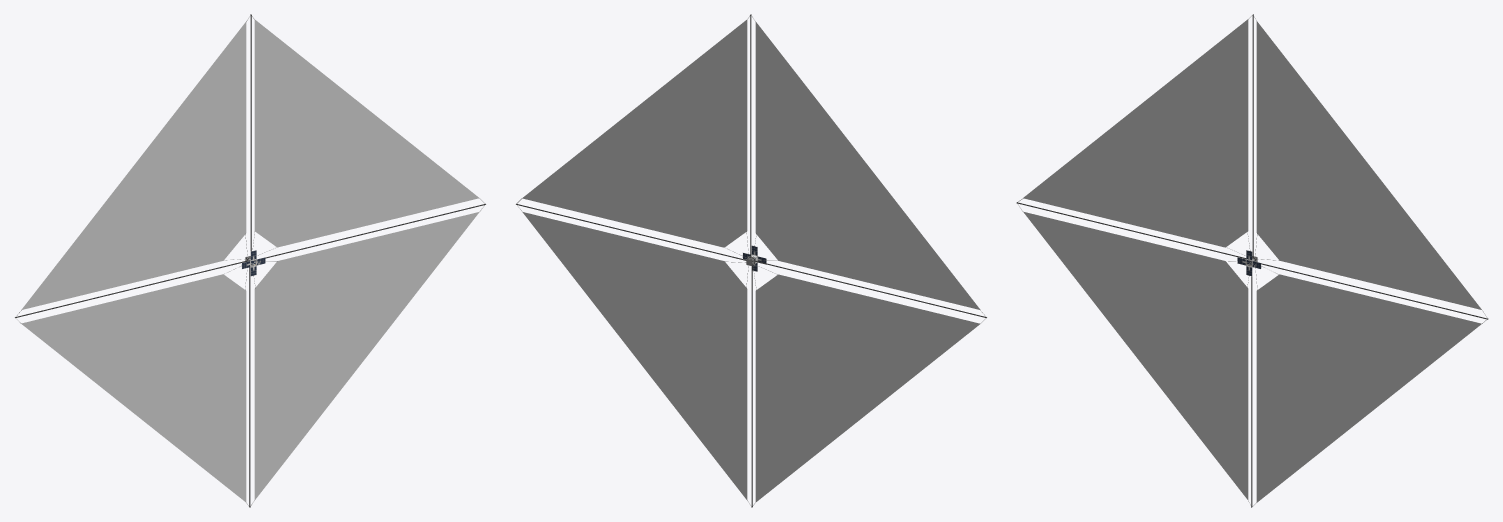
Rendered from acs3.glb.
3 renders of one model, left to right at view 1: azimuth 30°, elevation 25°; view 2: azimuth 150°, elevation 25°; view 3: azimuth 330°, elevation 25°, orthographic.
Parts seen in each view (by area): view 1: sails.001, booms; view 2: sails.001, booms; view 3: sails.001, booms.
Part boxes in pixels (x1,y1,x2,y2): sails.001: (21,20,479,501); booms: (15,14,485,507); sails.001: (522,19,980,502); booms: (516,14,986,507); sails.001: (1023,19,1481,502); booms: (1016,14,1488,507).
Size of the model in its own units: 14.62 by 14.62 by 0.2872.
Materials: 6 (2 with a texture image).
